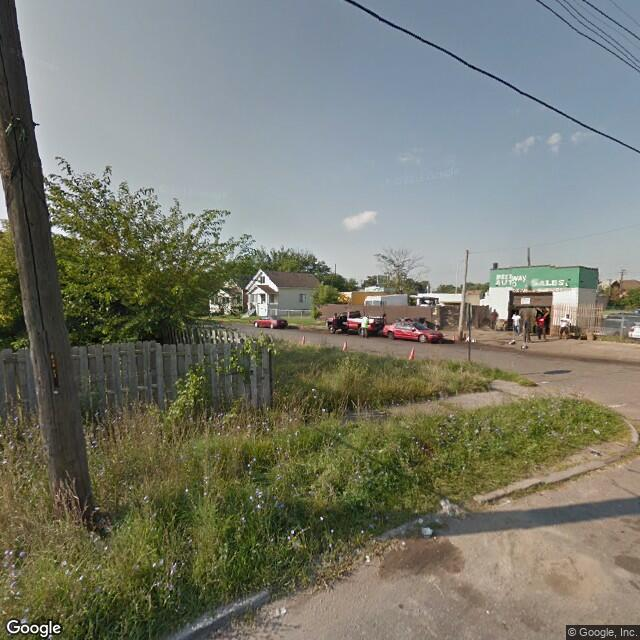litter: (271, 603, 290, 617), (422, 524, 435, 539), (590, 447, 605, 456), (591, 425, 600, 434), (361, 556, 375, 560)
